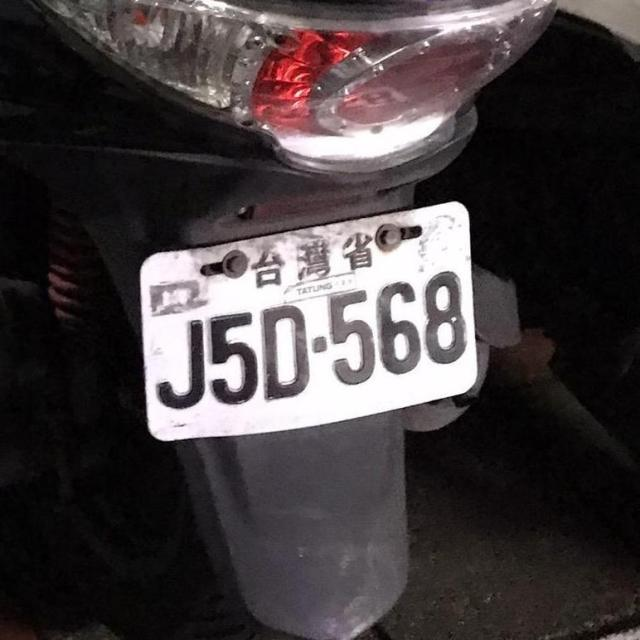W: (139, 201, 482, 445)
